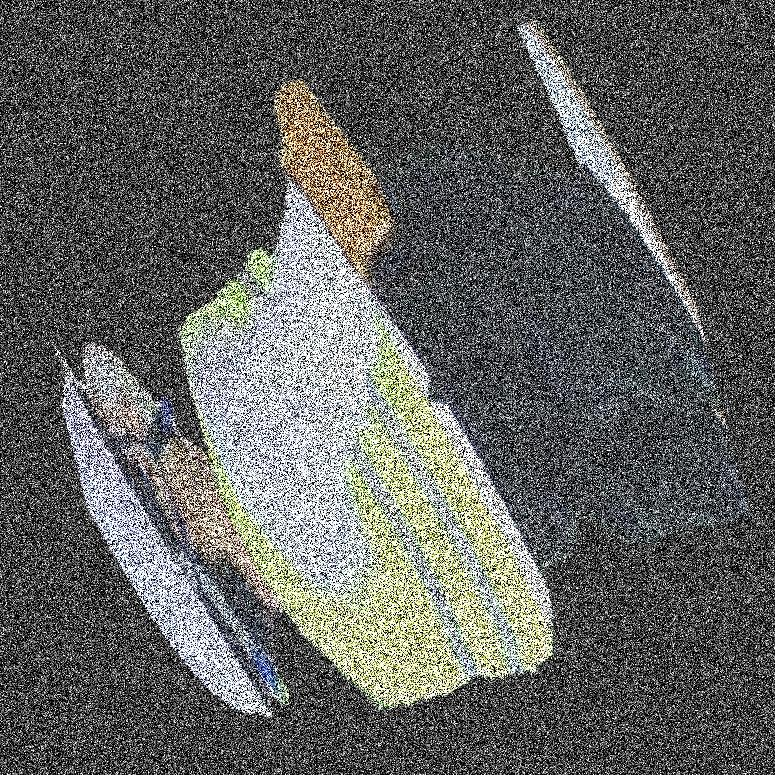Pessoa: (255, 0, 619, 774)
